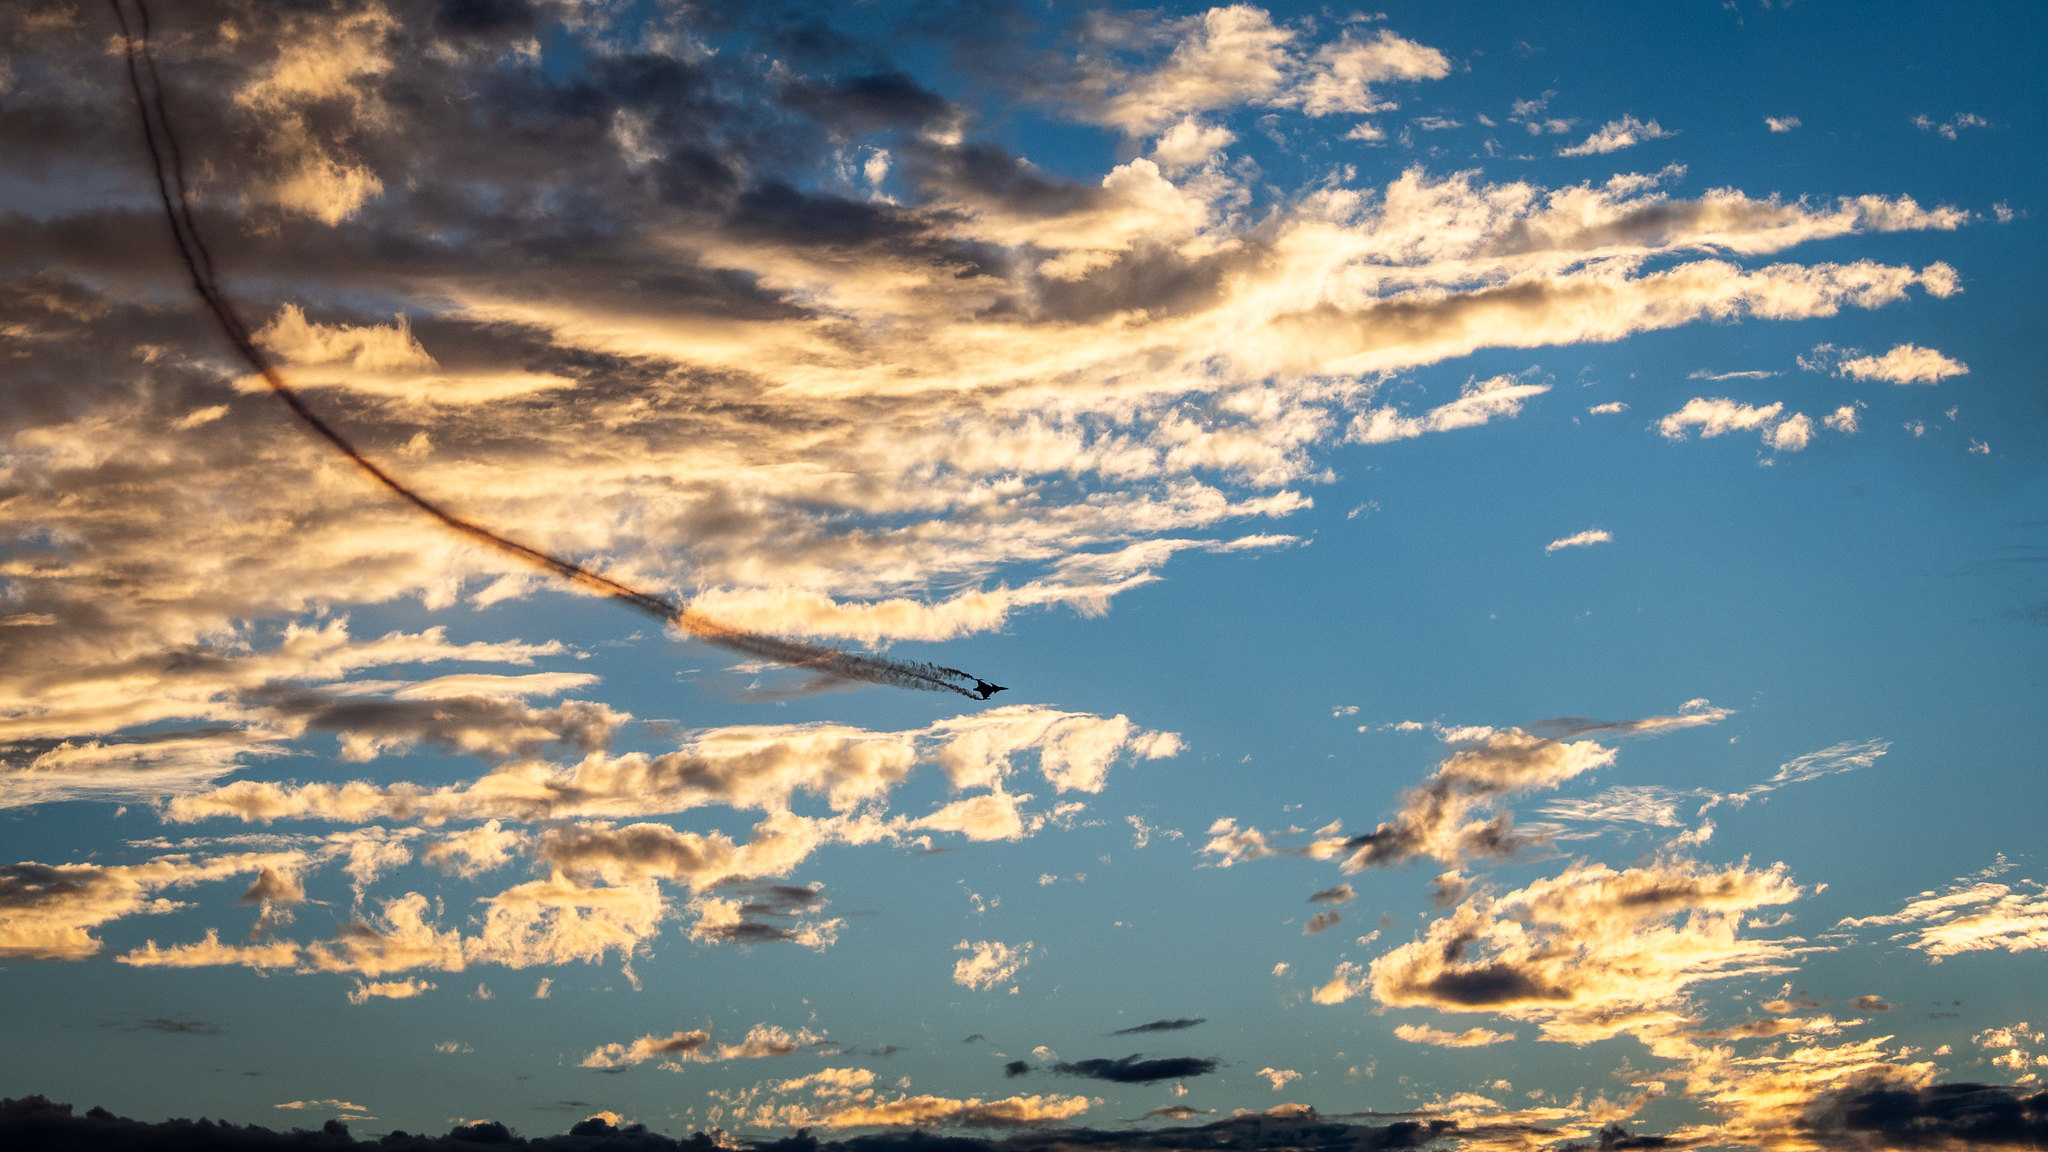JAS39: (972, 678, 1011, 700)
